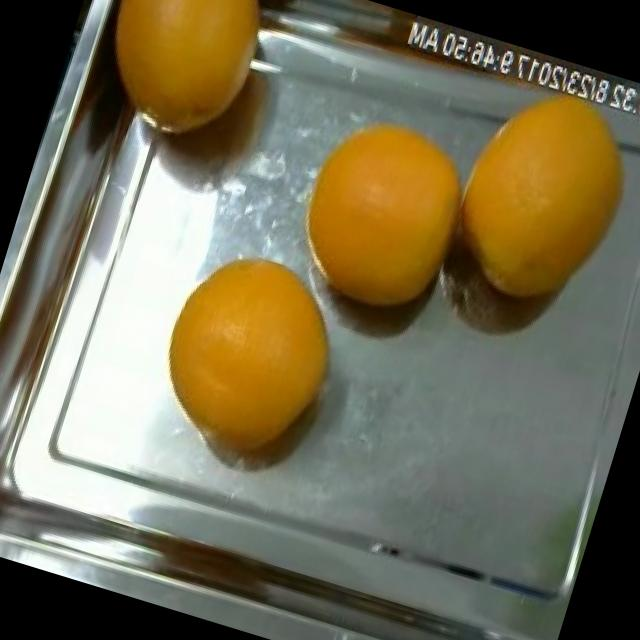Fruit: (256, 73, 502, 340), (414, 50, 640, 328)
